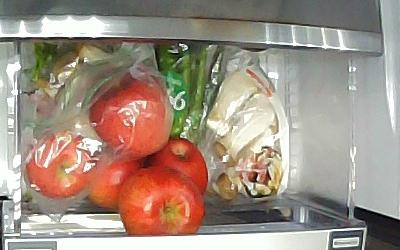apple: (118, 168, 205, 236), (143, 138, 207, 203), (86, 149, 144, 208)
apple_vinyl: (88, 74, 172, 157), (24, 128, 98, 199)
